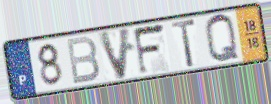8: (36, 42, 65, 88)
B: (64, 35, 102, 87)
F: (132, 21, 168, 78)
Q: (204, 13, 242, 66)
T: (170, 17, 198, 70)
V: (96, 26, 134, 83)
